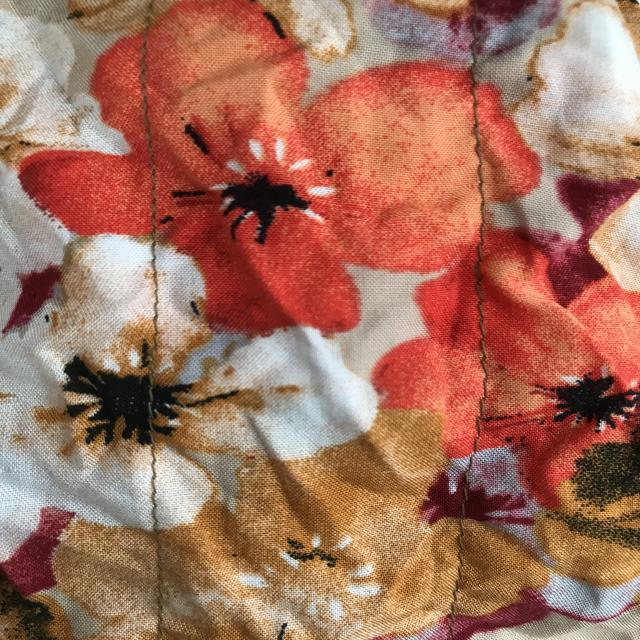good: (459, 295, 511, 445), (130, 446, 177, 537), (468, 100, 499, 236), (130, 246, 171, 344), (446, 529, 479, 609)
